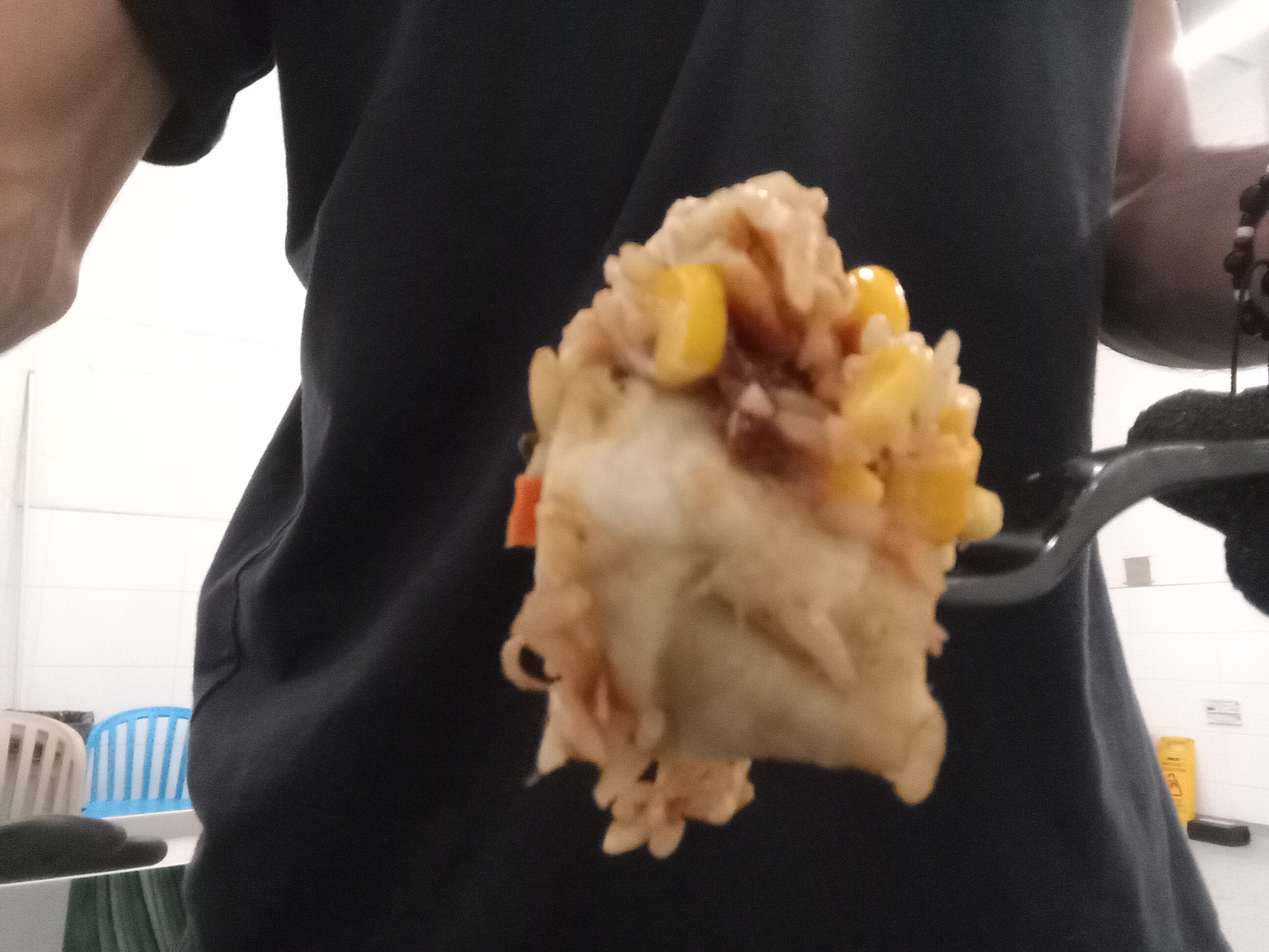Organico: (503, 170, 1001, 860)
